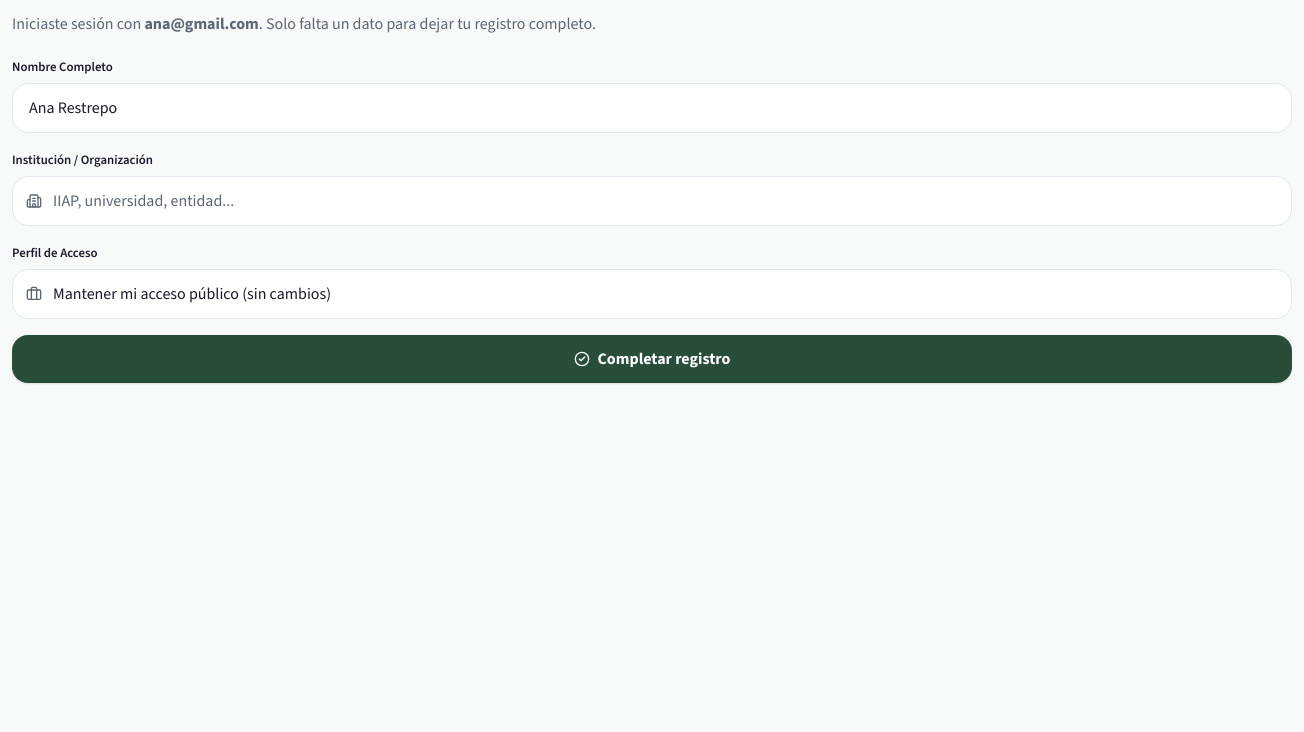
Test: CompletarPerfilForm — solicitud de perfil de acceso › al elegir un perfil, aparece el campo de motivo y cambia el texto del botón
The width and height of the screenshot is (1304, 732).
Select "Investigador / Científico" in the dropdown labelled "Perfil de Acceso". click: (652, 294)
box: [12,269,1292,319]
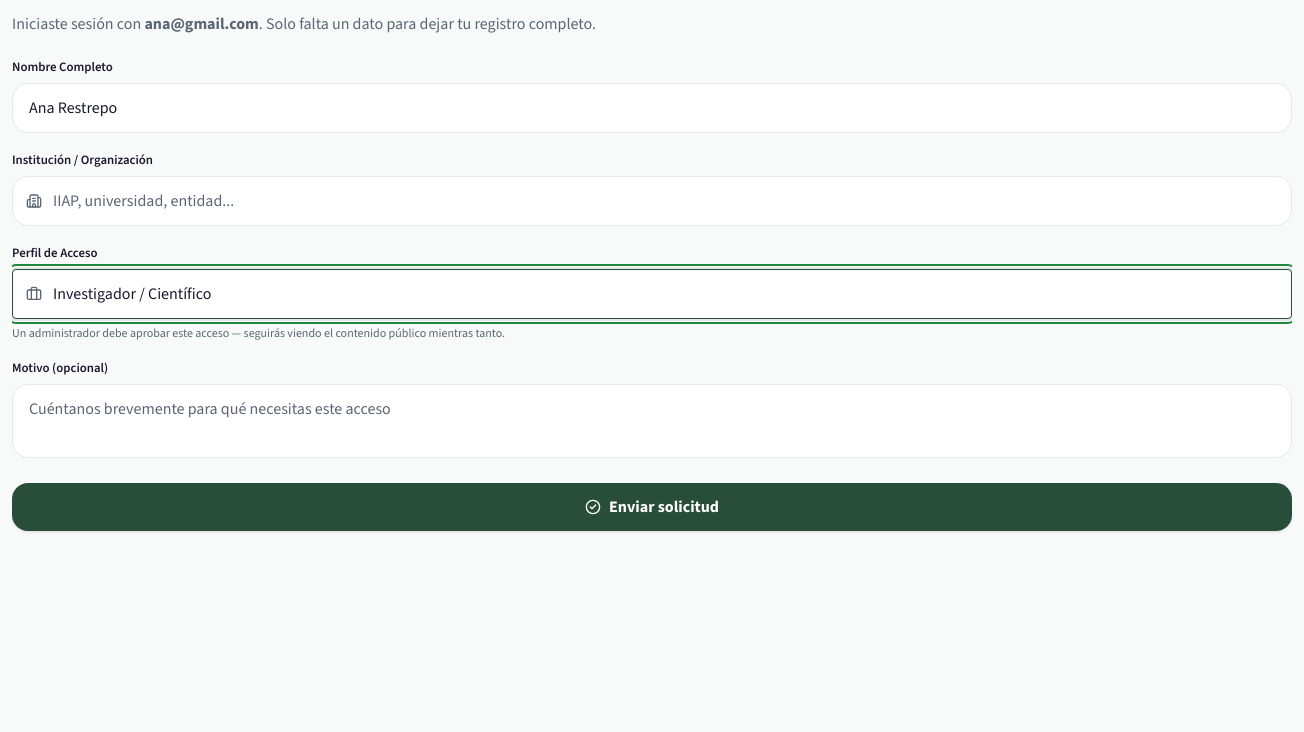
Check: the text box labelled "Motivo (opcional)" is shown, box [12,384,1292,458]
Check: the button "Enviar solicitud" is shown, box [12,483,1292,531]
